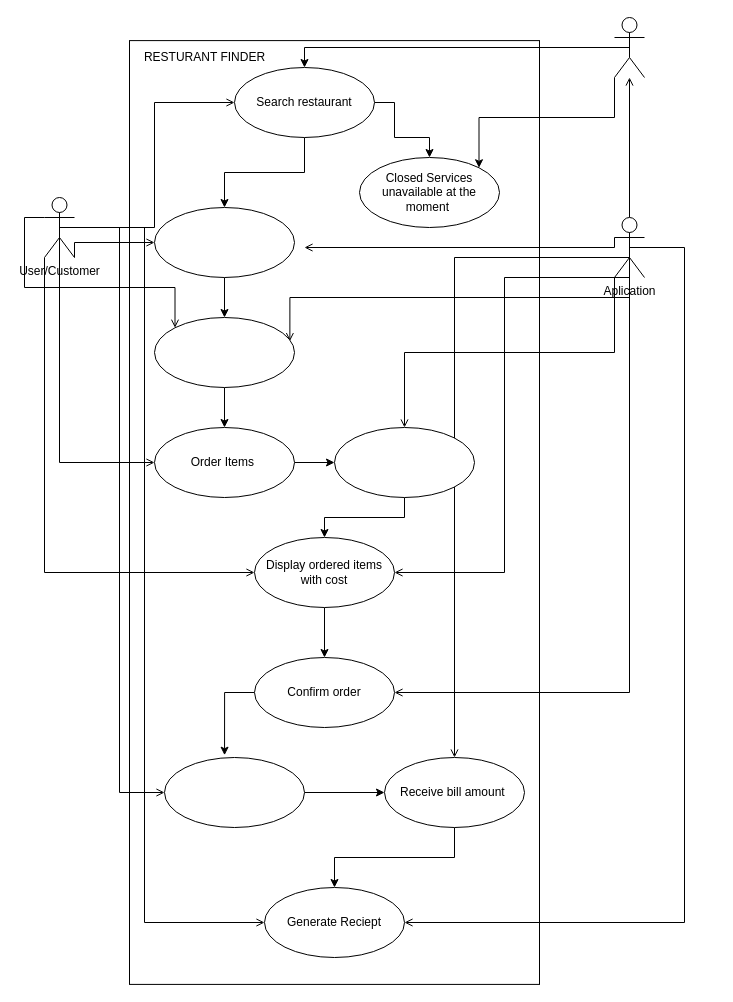
Image size: 733x1002. Some labels were removed from this diagram. Here are the shapes that lost their labels. From the top down, the centre of each, then its label:
the point at 629,47: Time tracking and location(GPS)
the point at 224,242: Open Get Menu Items
the point at 224,352: Display Menu items
the point at 404,462: Save Ordered items
the point at 234,792: Pay Bill
